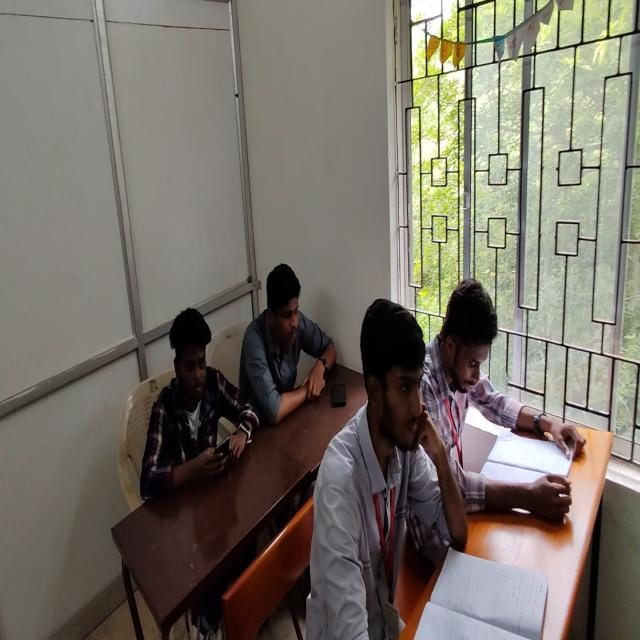reading: (314, 301, 473, 638), (418, 275, 588, 543)
using_mobile: (140, 307, 260, 503), (237, 260, 335, 428)
